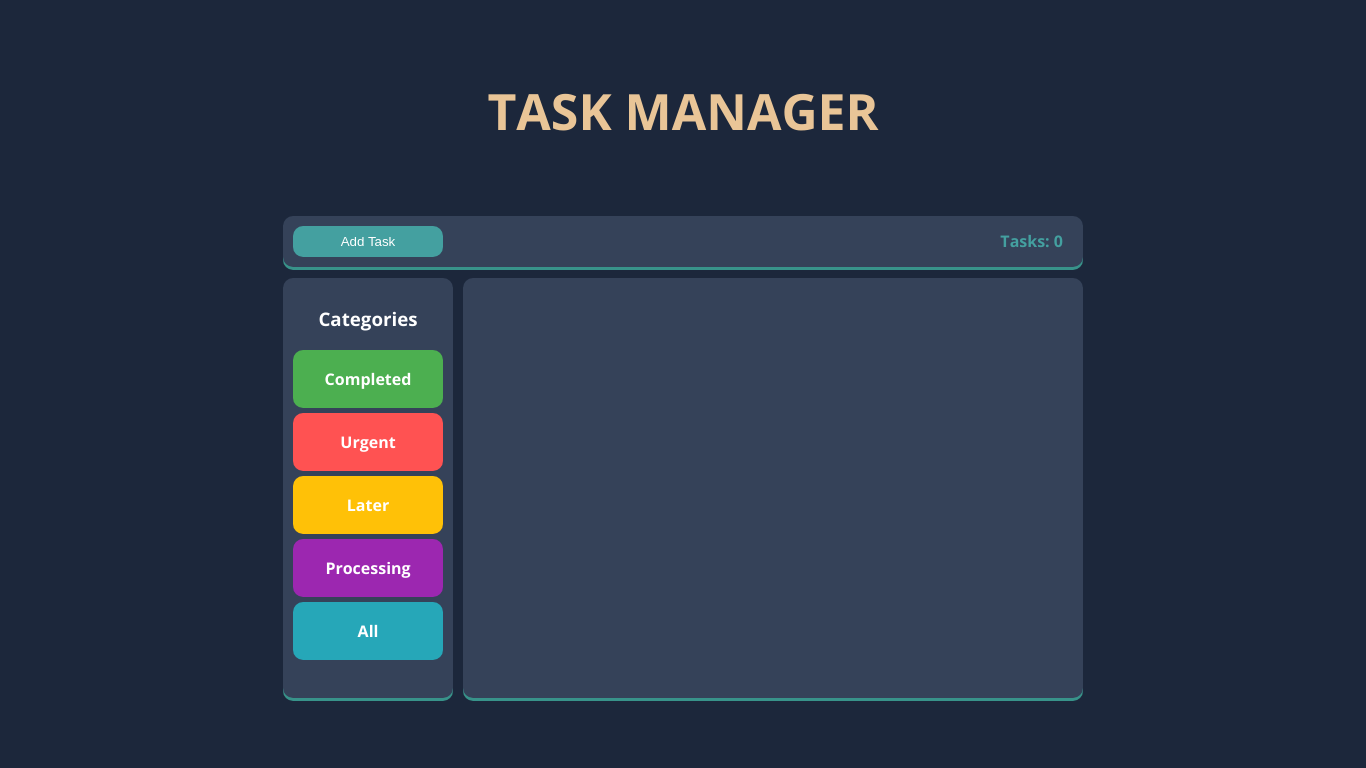
Test: Header › should open the modal on Add Task button click
Click the button with class "header__add-task-button" at (368, 242), box [293,226,443,257]
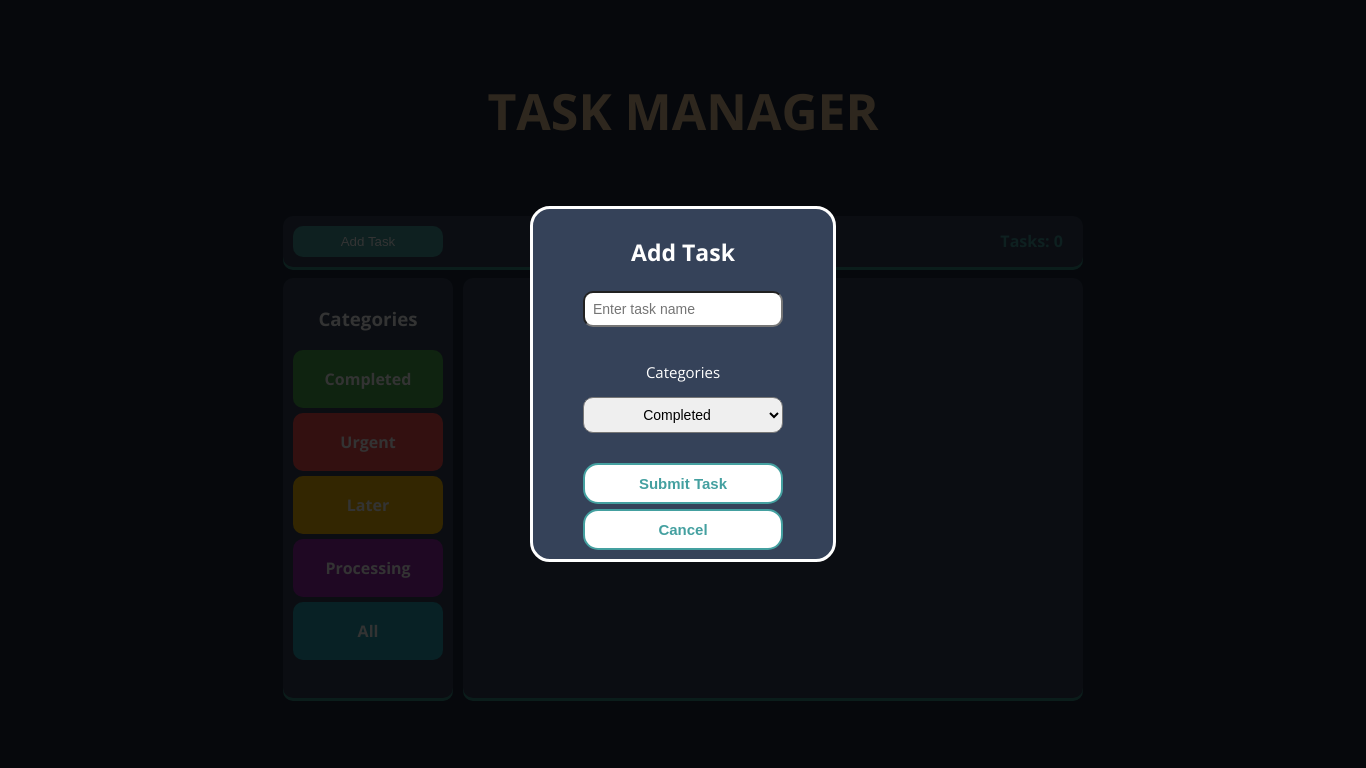
Check: the element with class "modal" is shown
